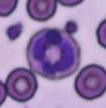N: (26, 28, 80, 79)
